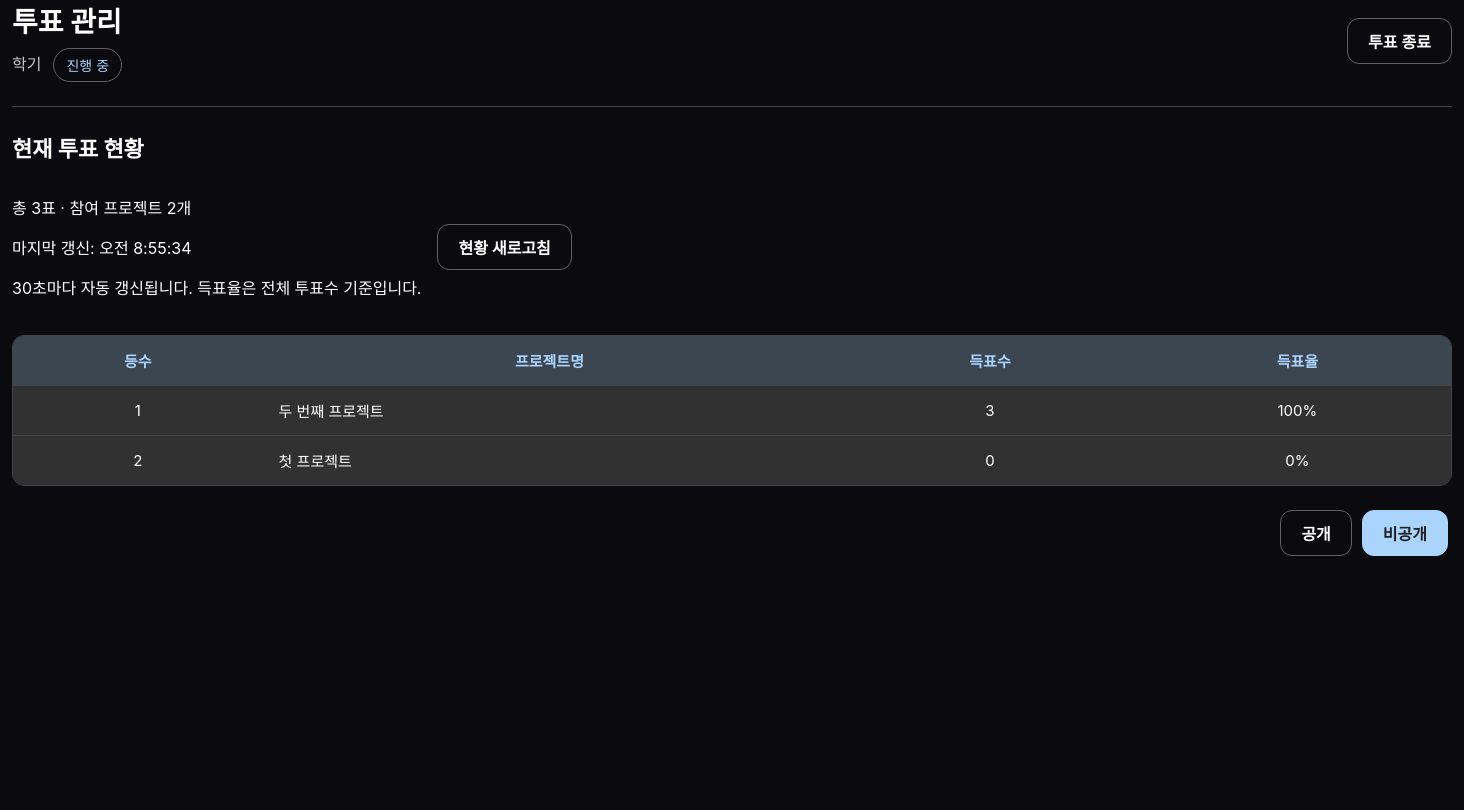
Test: 진행 중 득표 현황과 0표 프로젝트를 표시하고 수동 갱신한다
The image size is (1464, 810).
Expected: the text "총 3표 · 참여 프로젝트 2개" is shown, [12,198,191,218]
Expected: the text "두 번째 프로젝트" is shown, [263,386,836,436]
What coordinates should you click on to do the following:
click the button "현황 새로고침"
I would click on:
 (505, 247)
Its box is [438,224,572,270].
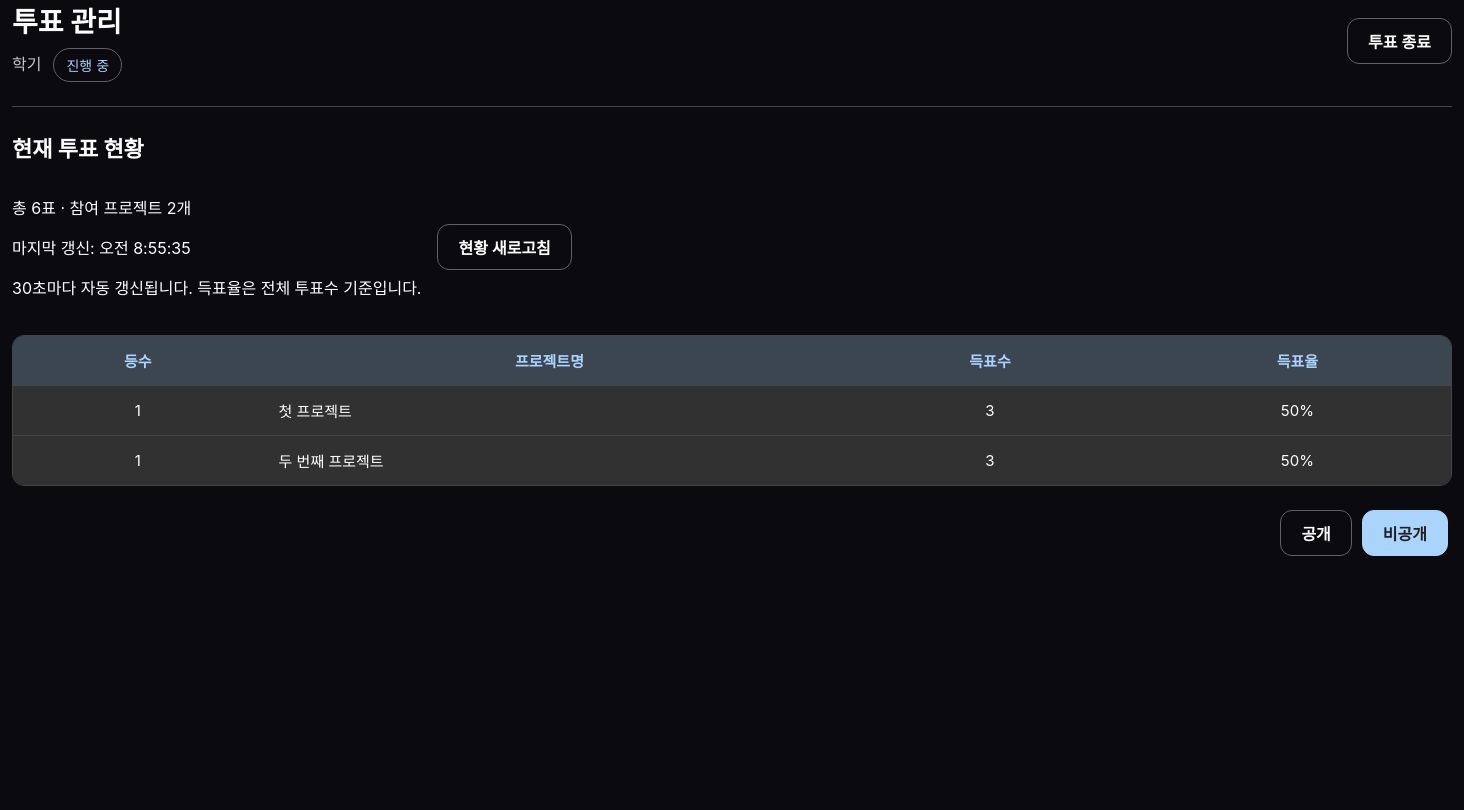
Expected: the text "총 6표 · 참여 프로젝트 2개" is shown, [12,198,191,218]
